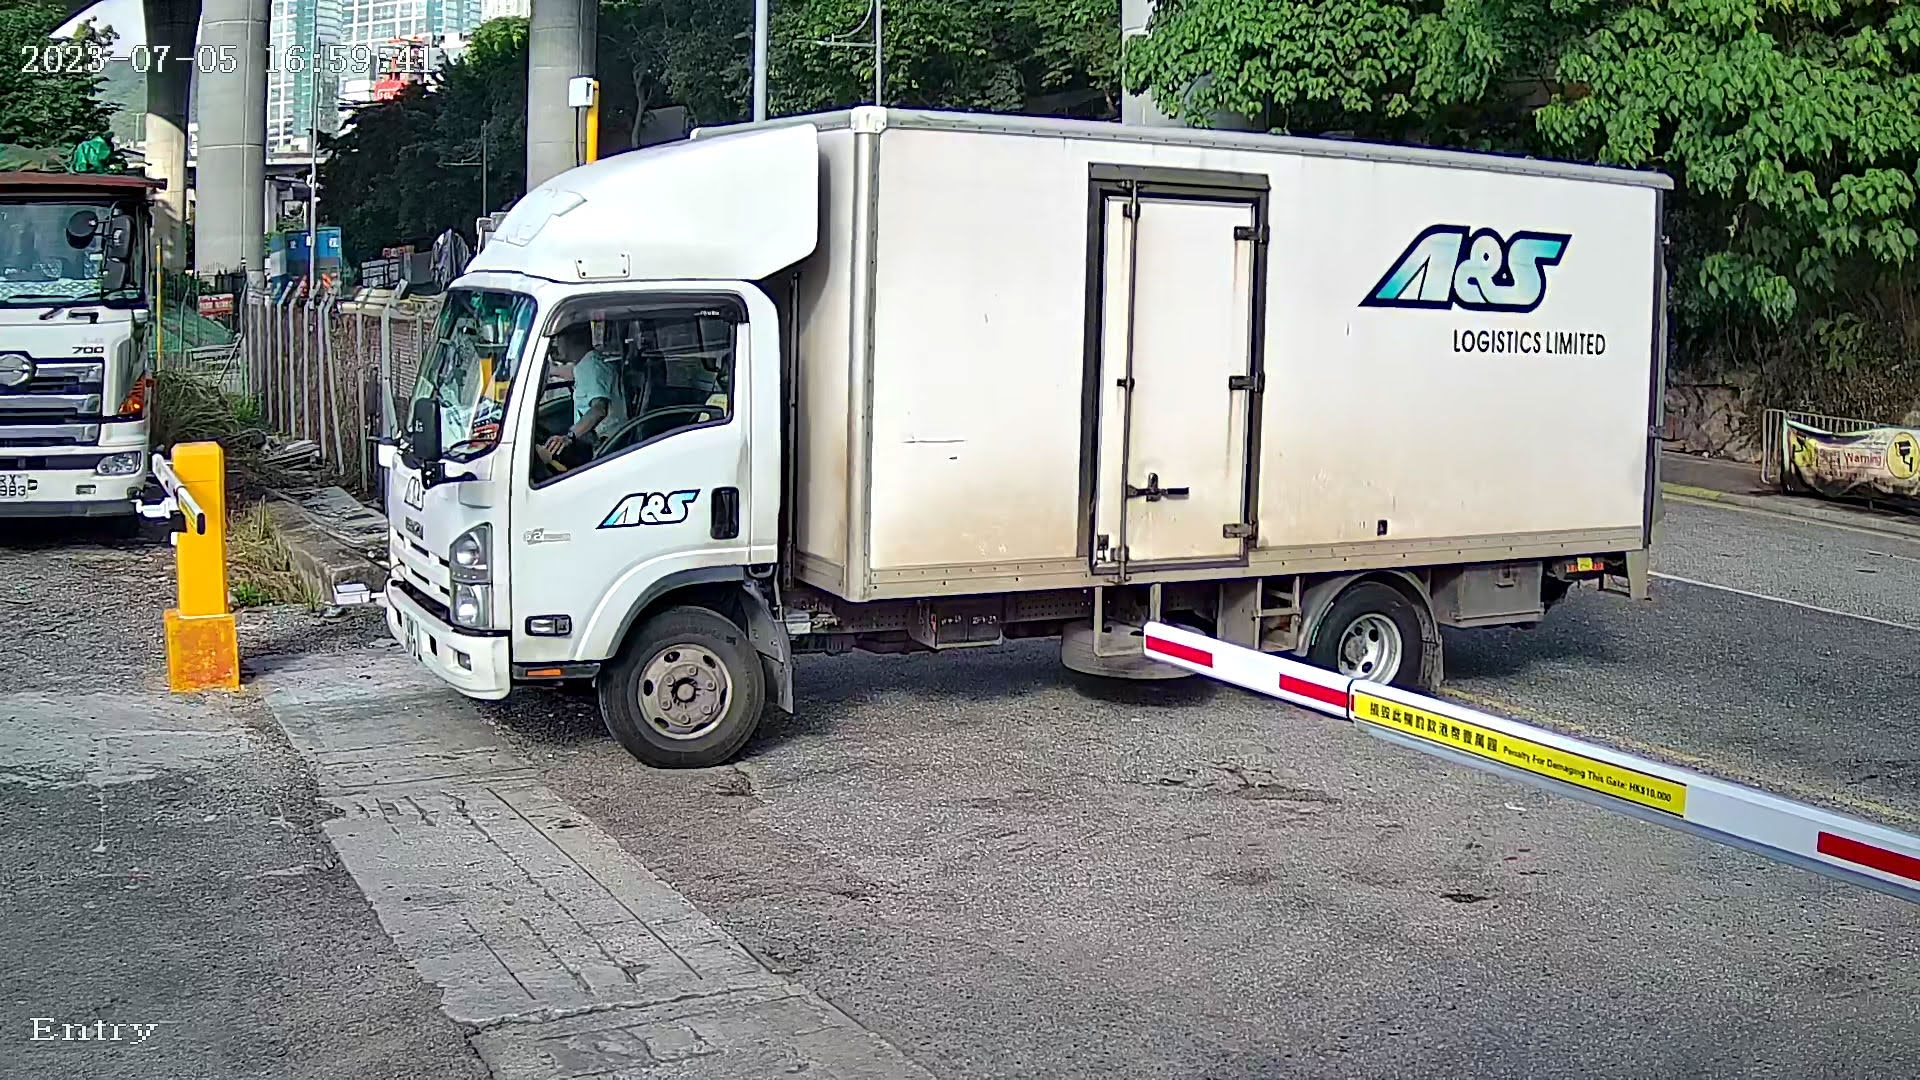truck: (334, 61, 1716, 777)
